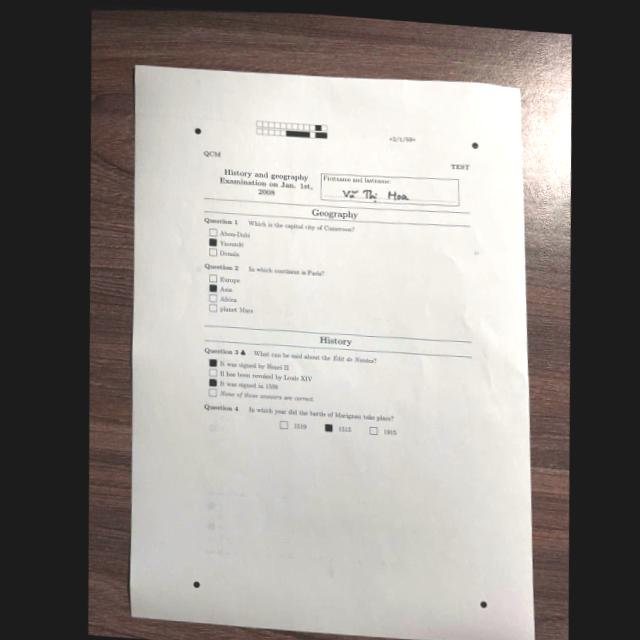Markers: (192, 580, 200, 588), (480, 601, 487, 608), (472, 141, 478, 149), (195, 128, 201, 134)
